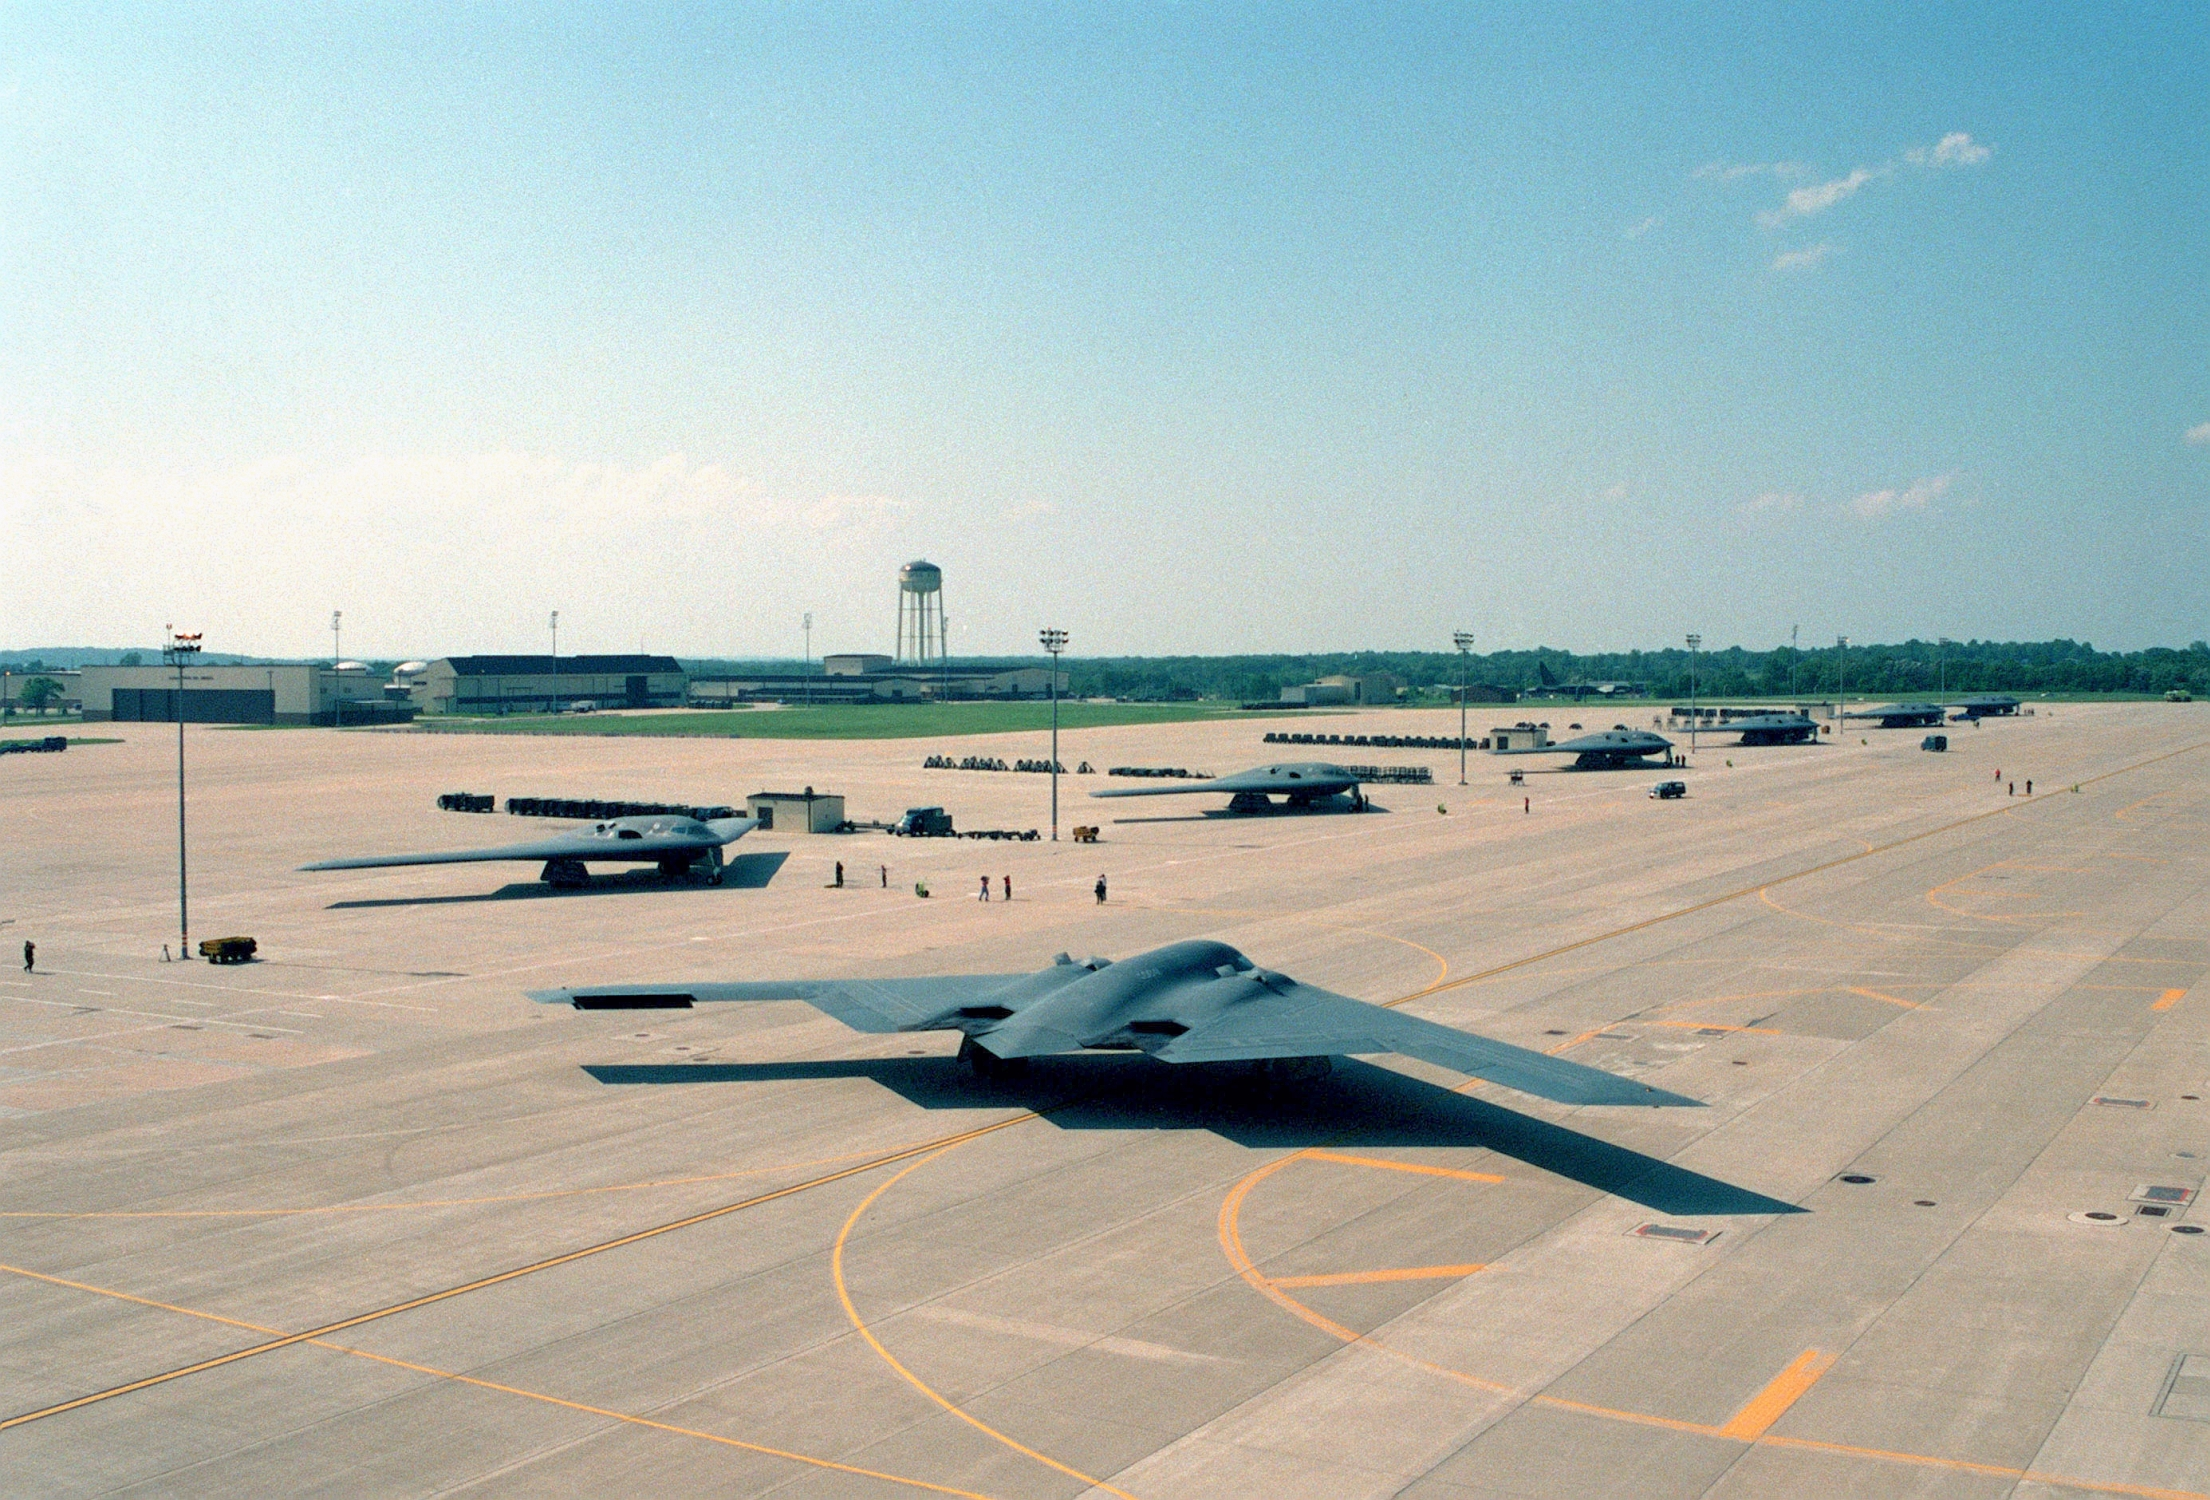B2: (519, 936, 1714, 1108), (291, 815, 767, 887), (1087, 762, 1365, 812), (1485, 730, 1676, 767), (1674, 713, 1822, 745), (1825, 701, 1947, 727), (1934, 695, 2024, 715)
